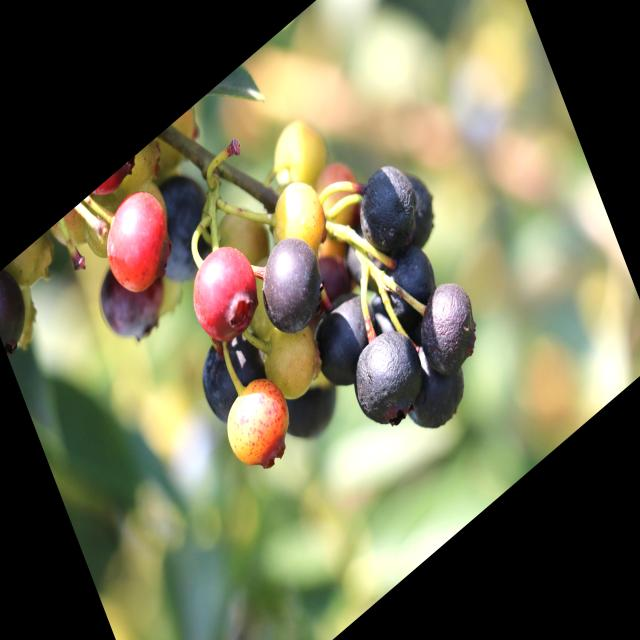blueberry: (134, 149, 236, 307), (336, 304, 437, 454), (244, 214, 342, 360), (185, 302, 281, 442), (301, 274, 396, 413), (343, 142, 435, 280), (388, 320, 479, 452), (405, 264, 492, 398), (374, 225, 454, 349), (269, 352, 351, 466), (385, 154, 450, 260), (334, 213, 394, 308), (0, 258, 44, 361)
blueberry-halfripe: (94, 174, 187, 313), (181, 228, 269, 356), (217, 360, 303, 487)
blueberry-unripe: (256, 307, 326, 412), (264, 167, 332, 266), (264, 109, 330, 205)
